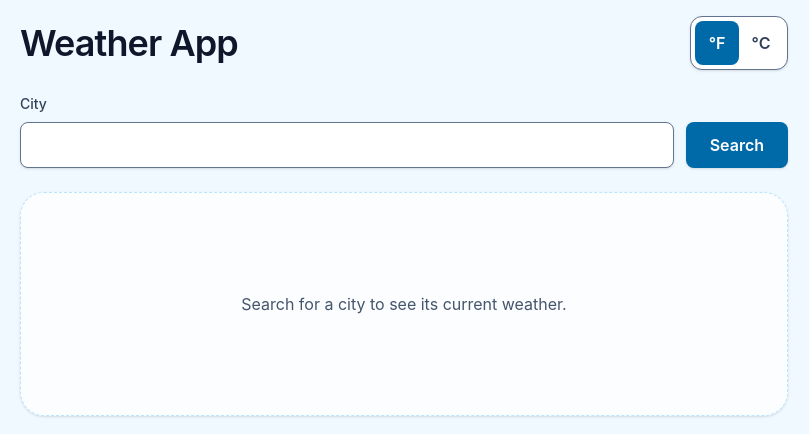
Test case: App › renders the provider-timeout error with safe, category-specific content
Type "Tampa" into the field labelled "City".
click(347, 145); type("Tampa")  # box [20, 122, 674, 168]
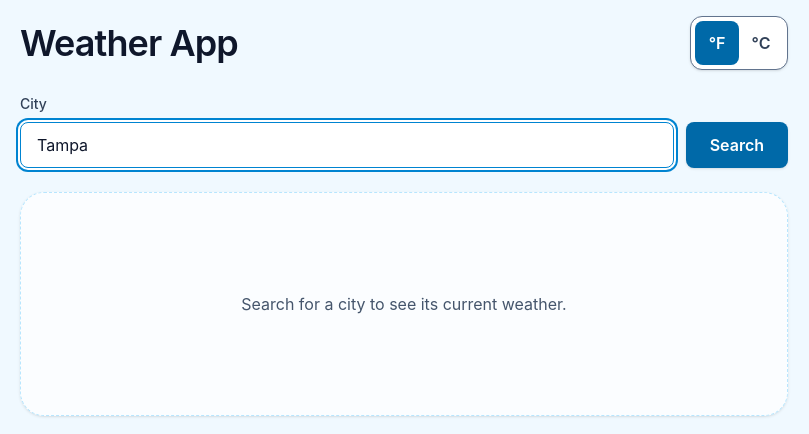
Click the button "Search".
click(737, 145)  # box [686, 122, 788, 168]
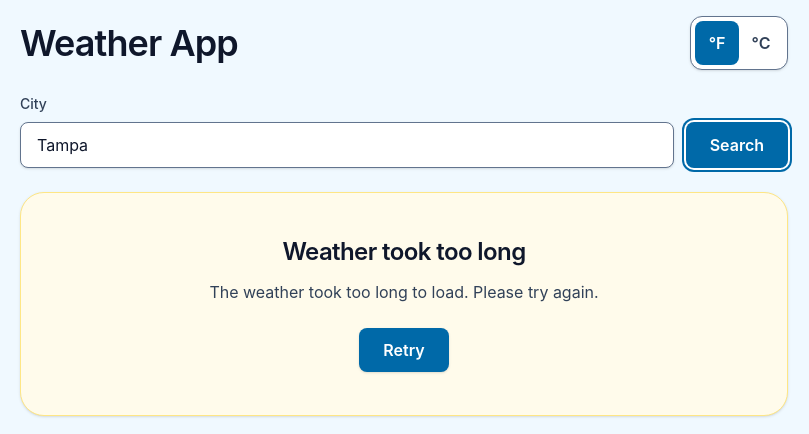
Check: the heading "Weather took too long" is shown, box [282, 237, 526, 266]
Check: the text "The weather took too long to load. Please try again." is shown, box [209, 280, 599, 304]
Check: the button "Retry" is enabled, box [359, 328, 449, 372]
